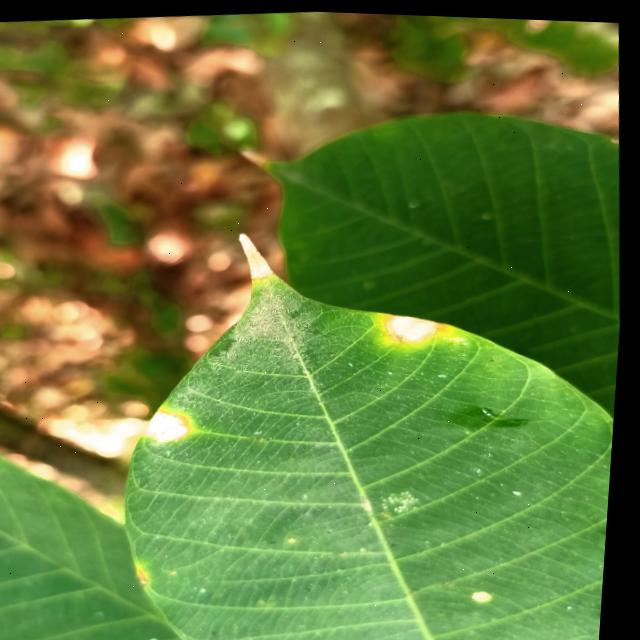Leaf-Blight: (387, 306, 447, 342), (239, 229, 280, 278), (147, 406, 197, 443)
